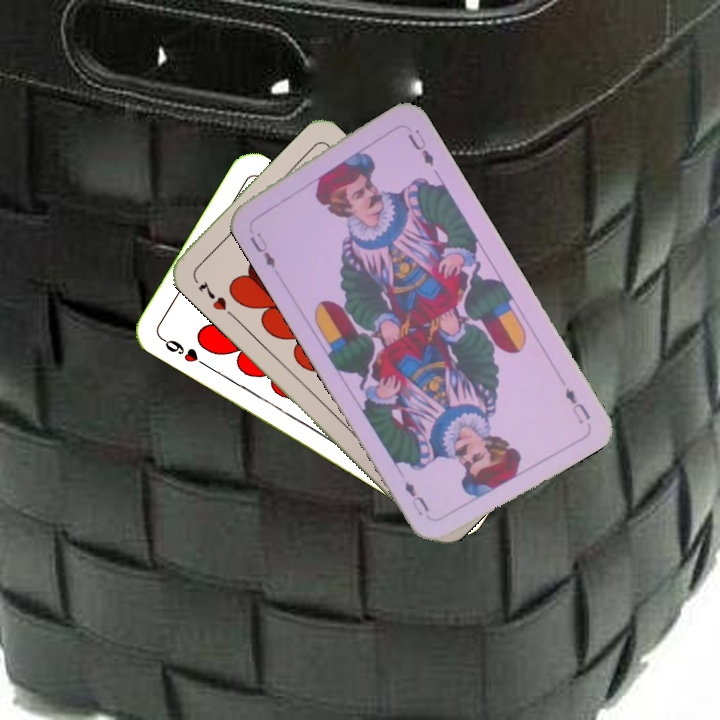EU: (245, 228, 279, 271), (561, 383, 593, 427)
H7: (194, 277, 237, 320)
H9: (156, 333, 209, 369)
